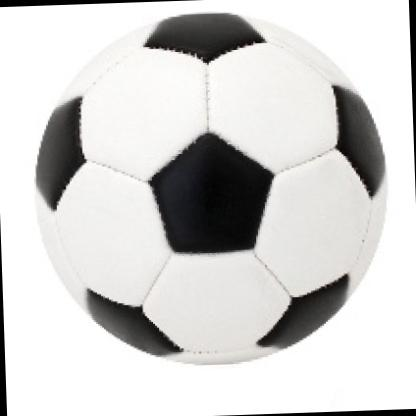ball: (29, 7, 392, 372)
